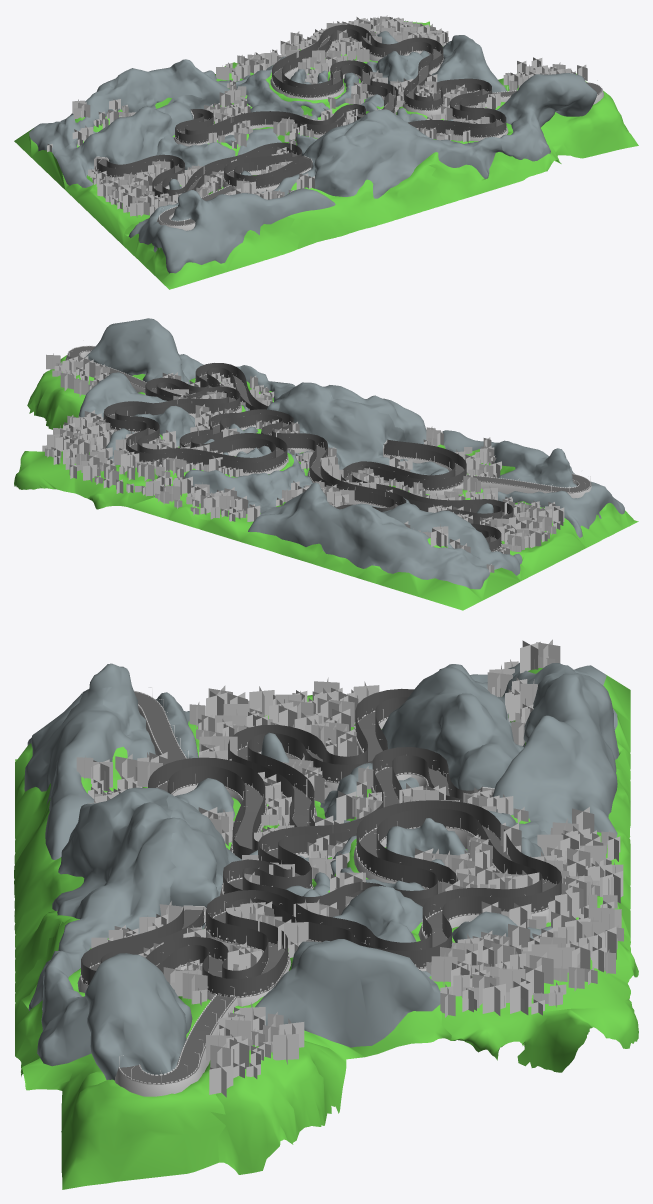
File: Track04_winter.fbx
The picture shows the model from 3 angles, top to bottom: view 1: azimuth 30°, elevation 25°; view 2: azimuth 150°, elevation 25°; view 3: azimuth 270°, elevation 25°; orthographic projection. The views are drawn at different scales.
Parts seen in each view (by area): view 1: Cliffs, Ground, Trees, Road_col, Road; view 2: Cliffs, Trees, Road_col, Ground, Road; view 3: Cliffs, Trees, Ground, Road_col, Road.
Part boxes in pixels (x1,y1,x2,y2): Cliffs: (29, 31, 597, 273); Ground: (14, 21, 638, 289); Trees: (47, 15, 587, 217); Road_col: (96, 24, 506, 201); Road: (95, 35, 603, 230); Cliffs: (79, 318, 624, 589); Trees: (42, 353, 564, 572); Road_col: (103, 363, 513, 551); Ground: (14, 355, 638, 610); Road: (65, 340, 591, 551); Cliffs: (24, 662, 618, 1080); Trees: (76, 639, 623, 1097); Ground: (14, 668, 638, 1189); Road_col: (81, 688, 561, 997); Road: (77, 687, 561, 1096).
Size of the model in its own units: 585 by 112 by 331.
